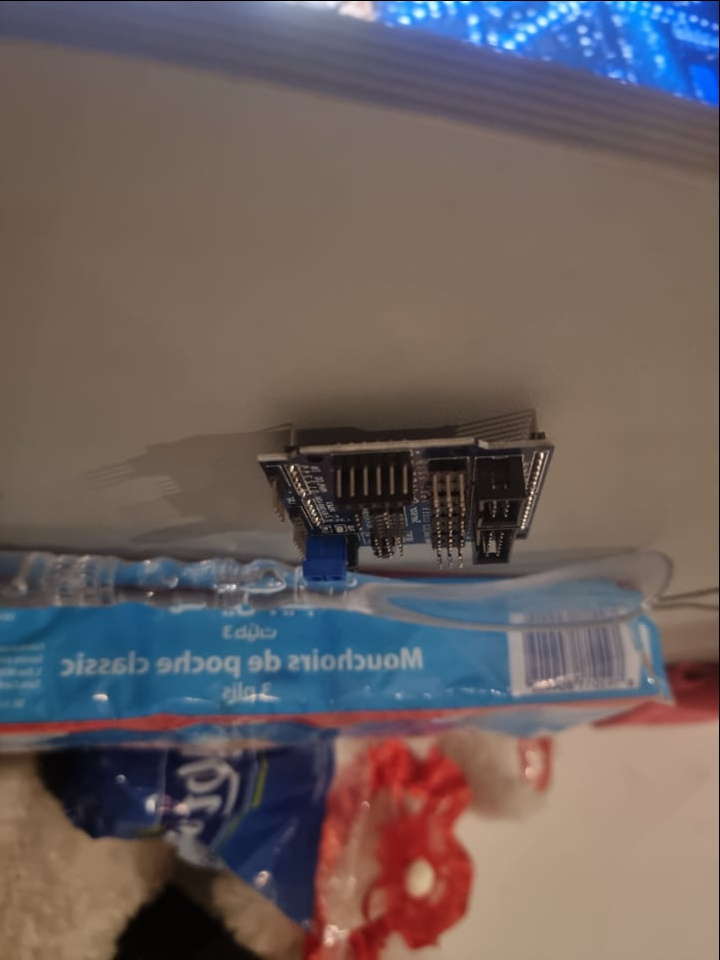5V EXPANSION: (258, 435, 559, 583)
